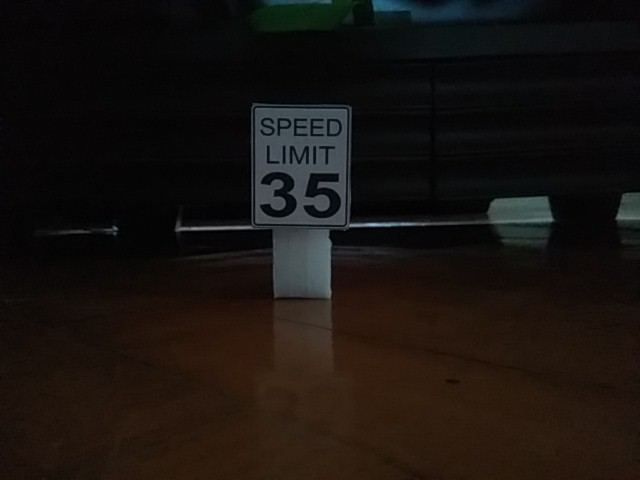Speed Limit 35: (250, 101, 353, 230)
